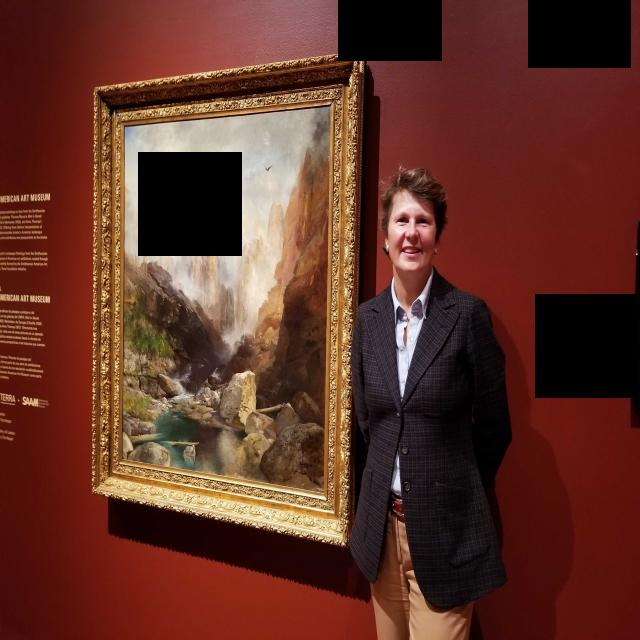Tablo: (121, 103, 332, 495)
